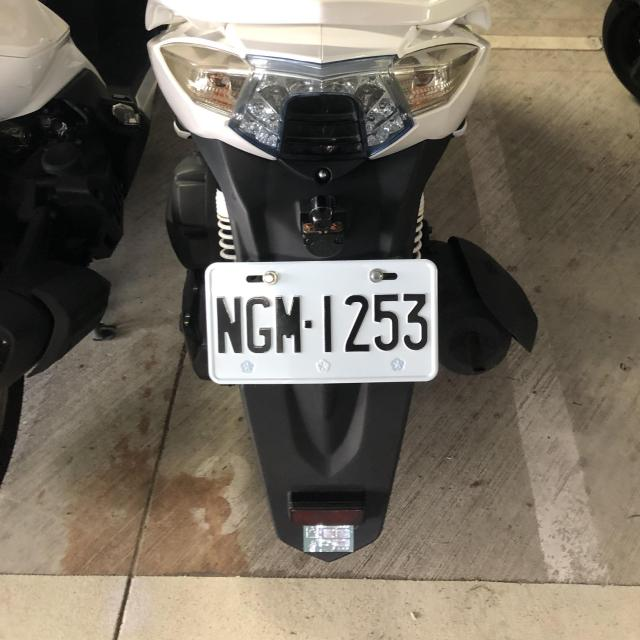W: (203, 257, 439, 386)
